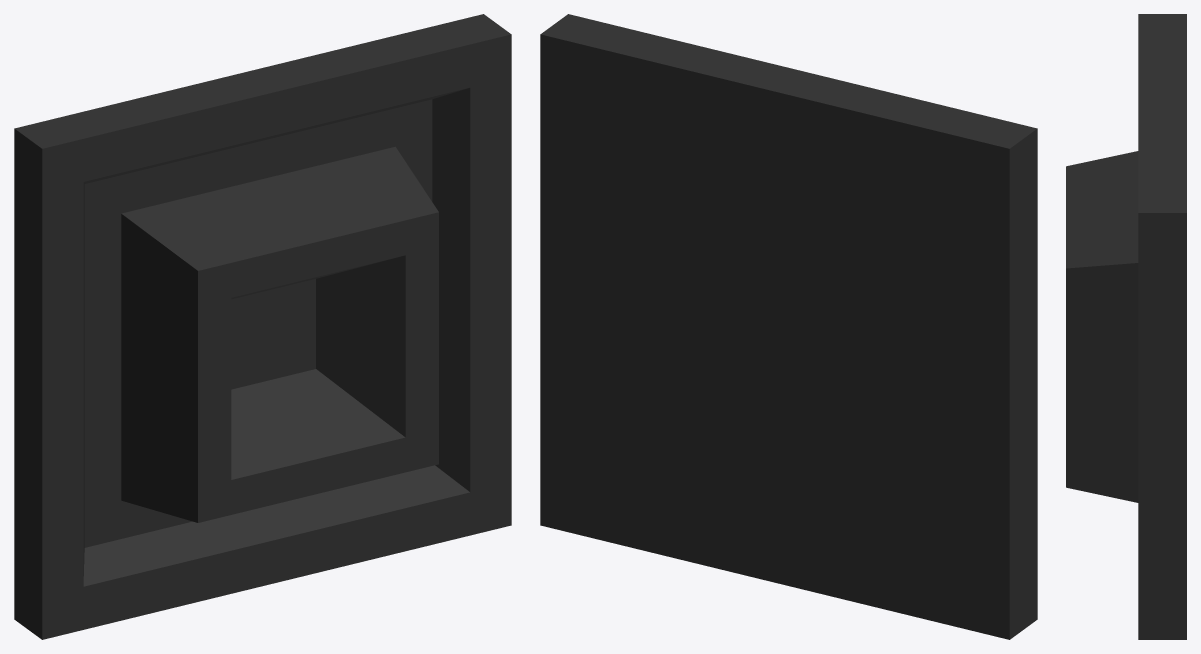
The model's file is WeaponPlate.fbx.
3 renders of one model, left to right at view 1: azimuth 30°, elevation 25°; view 2: azimuth 150°, elevation 25°; view 3: azimuth 270°, elevation 25°, orthographic. The views are drawn at different scales.
Parts seen in each view (by area): view 1: pCube1; view 2: pCube1; view 3: pCube1.
Boxes of the visible parts, bbox=[...] form: pCube1: bbox=[14, 14, 511, 639]; pCube1: bbox=[540, 14, 1037, 639]; pCube1: bbox=[1066, 14, 1186, 639].
Size of the model in its own units: 1 by 1 by 0.2564.
1 material, 1 textured.
